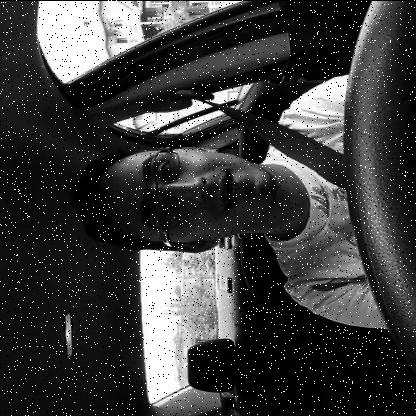seatbelt: (61, 85, 416, 258)
